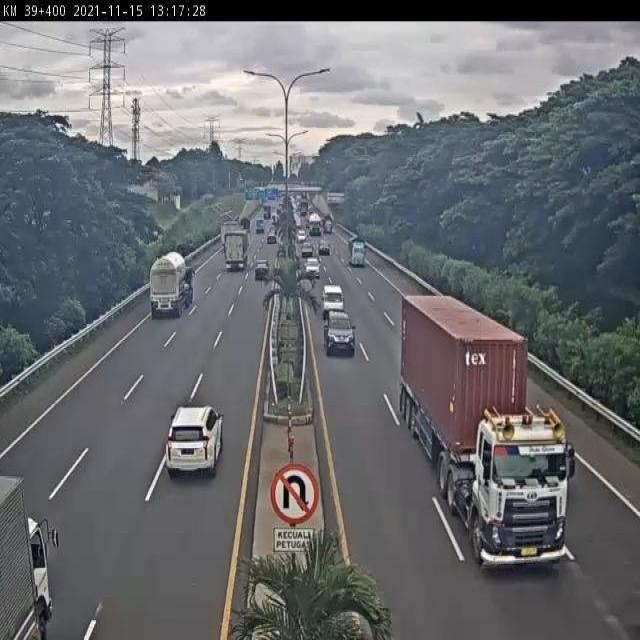car: (165, 403, 225, 480), (323, 309, 357, 356), (319, 281, 347, 316), (251, 257, 273, 283), (304, 257, 322, 279)
truck-m-: (220, 228, 251, 272)
truck-xl-: (399, 296, 571, 569), (149, 250, 195, 322)
